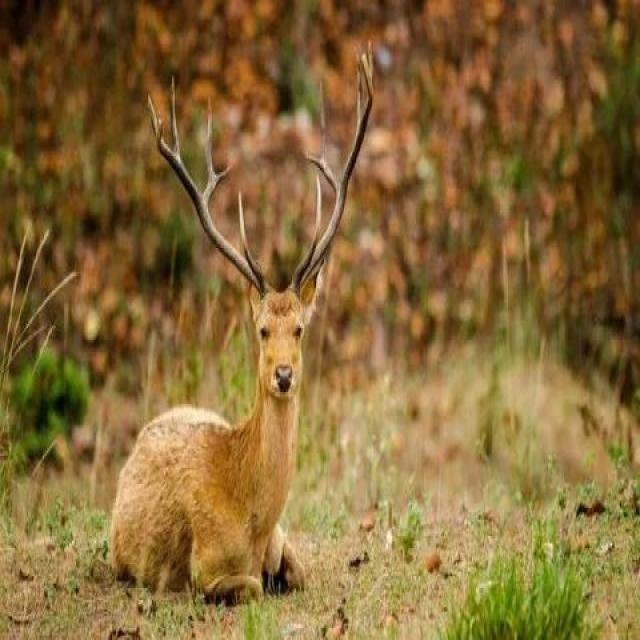deer: (63, 95, 396, 588)
